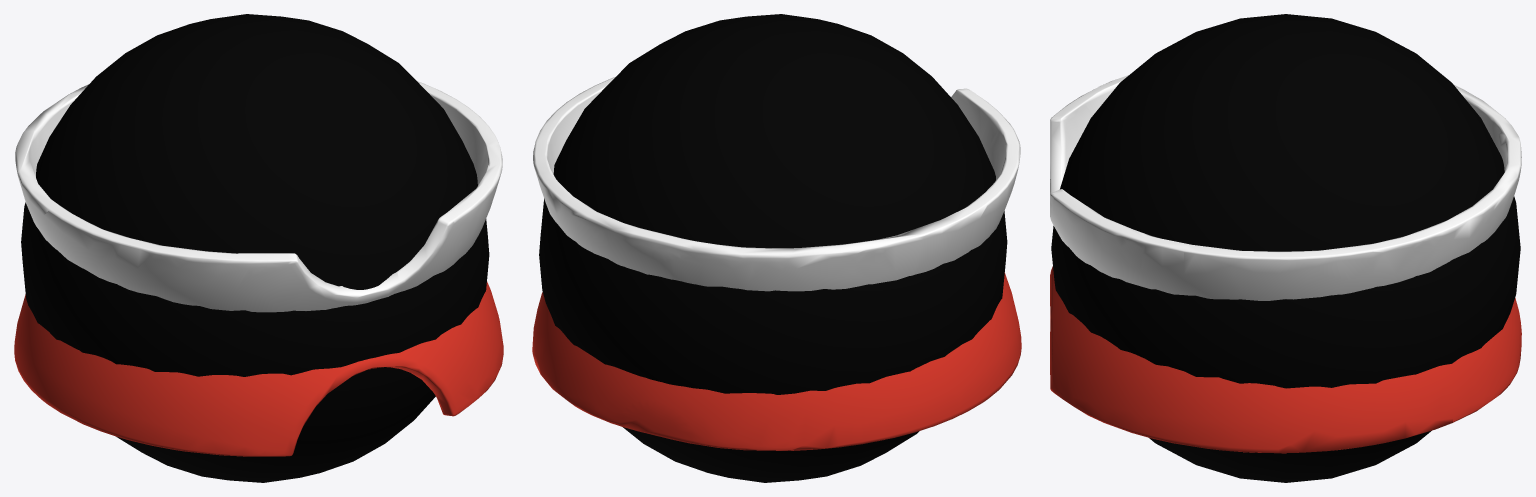
File: poke_ball-Optimized.glb
3 renders of one model, left to right at view 1: azimuth 30°, elevation 25°; view 2: azimuth 150°, elevation 25°; view 3: azimuth 270°, elevation 25°, orthographic.
Parts seen in each view (by area): view 1: Sphere001, Sphere; view 2: Sphere001, Sphere; view 3: Sphere001, Sphere.
Part boxes in pixels (left/top/right/bottom): Sphere001: left=21, top=14, right=489, bottom=482; Sphere: left=14, top=81, right=503, bottom=456; Sphere001: left=539, top=14, right=1007, bottom=482; Sphere: left=532, top=77, right=1021, bottom=450; Sphere001: left=1051, top=14, right=1520, bottom=482; Sphere: left=1050, top=75, right=1521, bottom=453.
Bounding box in the file's own units: 64461 × 61875 × 62179.
